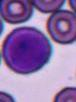M: (2, 26, 52, 74)
